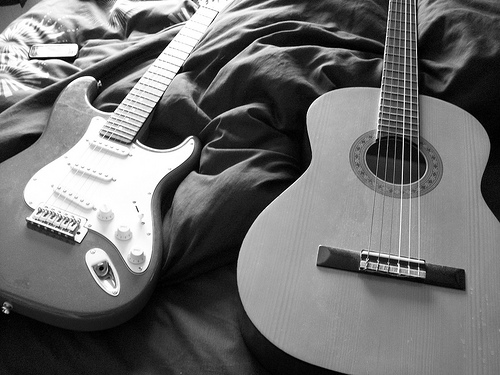guitar: (233, 1, 500, 375)
